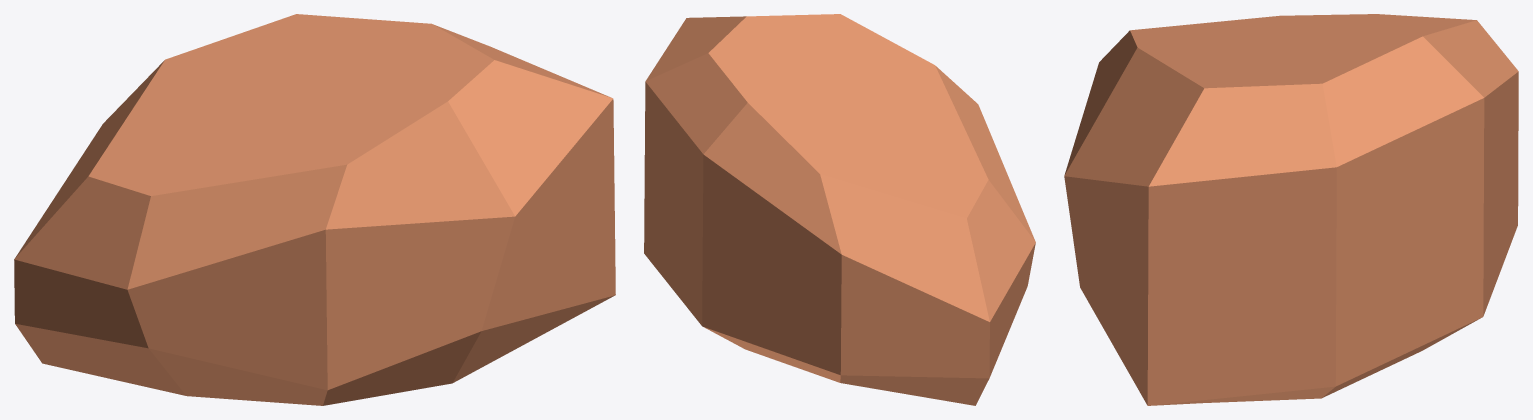
Rendered from Stone004.fbx.
The picture shows the model from 3 angles, left to right: view 1: azimuth 30°, elevation 25°; view 2: azimuth 150°, elevation 25°; view 3: azimuth 270°, elevation 25°; orthographic projection. The views are drawn at different scales.
Parts seen in each view (by area): view 1: Stone004; view 2: Stone004; view 3: Stone004.
Boxes of the visible parts, x1=… form: Stone004: x1=14, y1=14, x2=615, y2=405; Stone004: x1=644, y1=14, x2=1035, y2=405; Stone004: x1=1064, y1=14, x2=1518, y2=405.
Bounding box in the file's own units: 0.6532 × 0.3772 × 0.4888.
